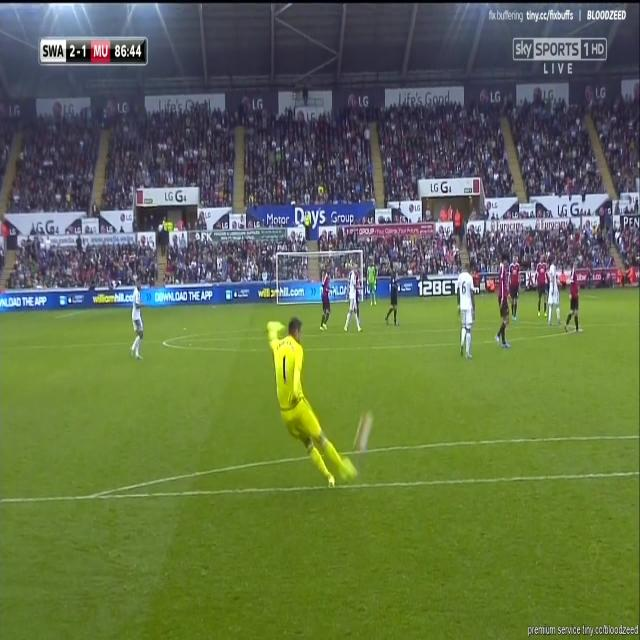Ball: (353, 406, 374, 456)
Goalkeeper: (263, 314, 361, 489), (366, 259, 380, 310)
Player: (457, 263, 476, 363), (494, 250, 511, 352), (128, 276, 146, 363), (342, 264, 364, 335), (564, 260, 584, 336), (546, 253, 564, 327), (318, 266, 335, 334), (534, 250, 550, 318), (507, 251, 521, 323)
Referee: (383, 261, 401, 331)
